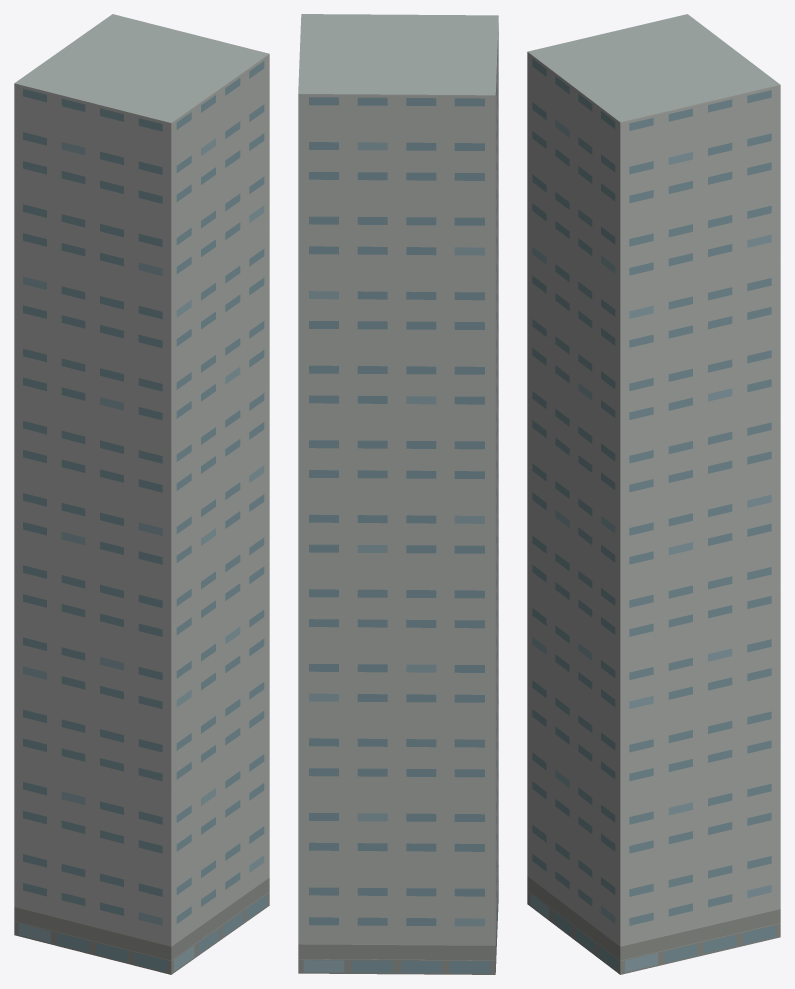
The model's file is residential-9197849d-bf83-4832-9abe-0e78bd90981c.glb.
The picture shows the model from 3 angles, left to right: view 1: azimuth 30°, elevation 25°; view 2: azimuth 150°, elevation 25°; view 3: azimuth 270°, elevation 25°; orthographic projection. The views are drawn at different scales.
Visible parts, largest first — view 1: residential-9197849d-bf83-4832-9abe-0e78bd90981c.tmp; view 2: residential-9197849d-bf83-4832-9abe-0e78bd90981c.tmp; view 3: residential-9197849d-bf83-4832-9abe-0e78bd90981c.tmp.
Boxes of the visible parts, left/top/right/bottom form: residential-9197849d-bf83-4832-9abe-0e78bd90981c.tmp: left=14, top=14, right=269, bottom=974; residential-9197849d-bf83-4832-9abe-0e78bd90981c.tmp: left=298, top=14, right=498, bottom=974; residential-9197849d-bf83-4832-9abe-0e78bd90981c.tmp: left=527, top=14, right=780, bottom=974.
Bounding box in the file's own units: 57.54 × 211 × 56.81.
